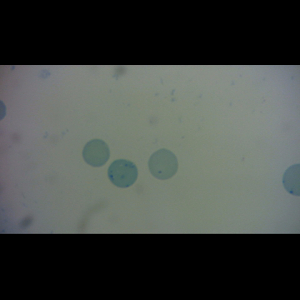erythrocyte: (81, 138, 111, 168)
punctate reticulocyte: (147, 148, 179, 180), (106, 158, 139, 189)
